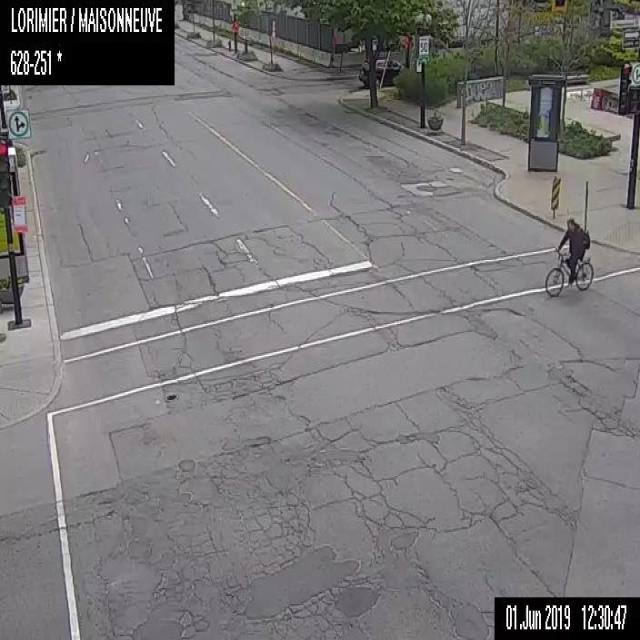cyclist: (545, 216, 593, 297)
vehicle: (358, 58, 404, 86)
